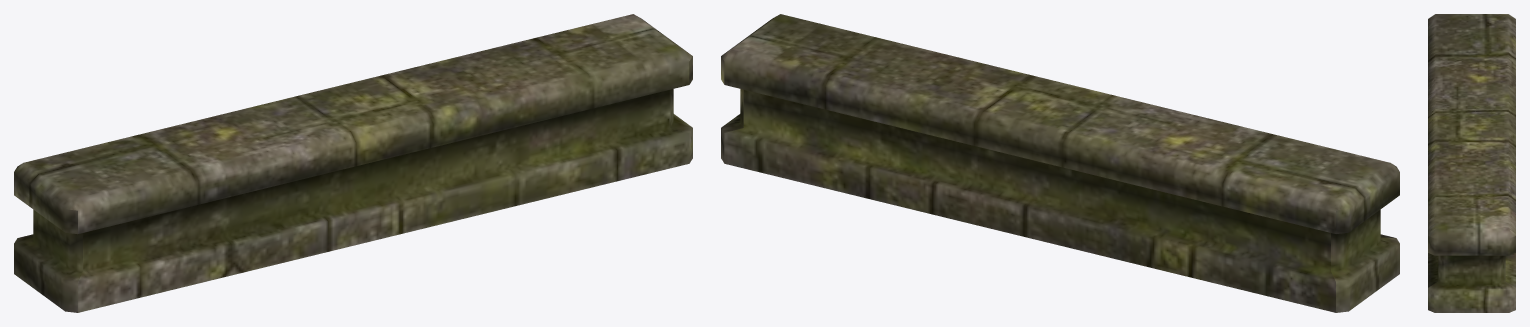
File: Bench_Church-transformed.glb
3 views of the same model, side by side, from view 1: azimuth 30°, elevation 25°; view 2: azimuth 150°, elevation 25°; view 3: azimuth 270°, elevation 25° (orthographic). The views are drawn at different scales.
Visible parts, largest first — view 1: default; view 2: default; view 3: default.
Boxes of the visible parts, x1,y1,x2,y2 form: default: [14, 14, 692, 312]; default: [721, 14, 1399, 312]; default: [1428, 14, 1515, 312].
Bounding box in the file's own units: 3 × 0.5001 × 0.5001.
1 material, 1 textured.
